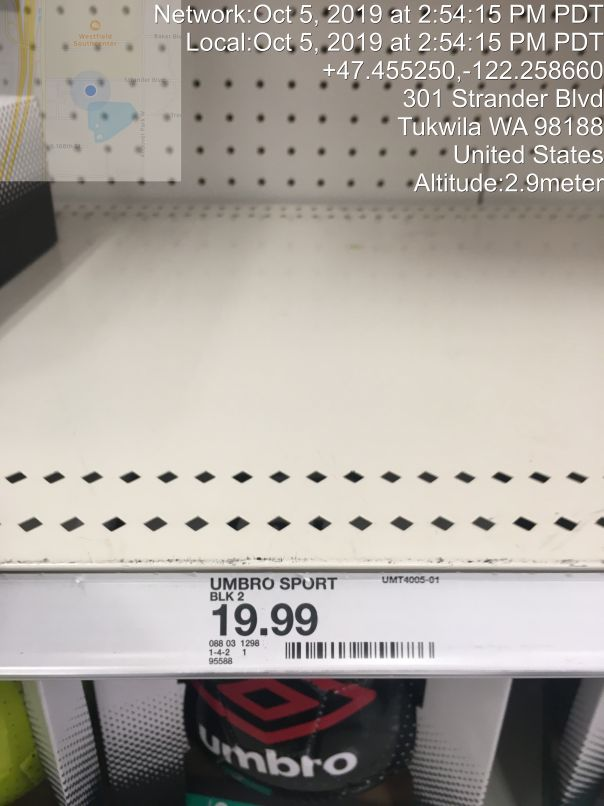Label: (185, 571, 451, 681)
Location: (388, 84, 604, 167)
Time: (150, 1, 604, 54)
Void: (20, 84, 541, 466)
